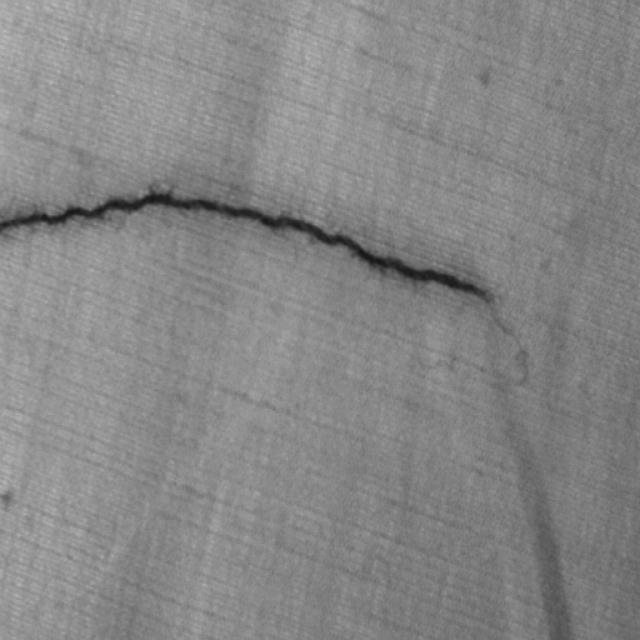Thread: (0, 191, 500, 310)
